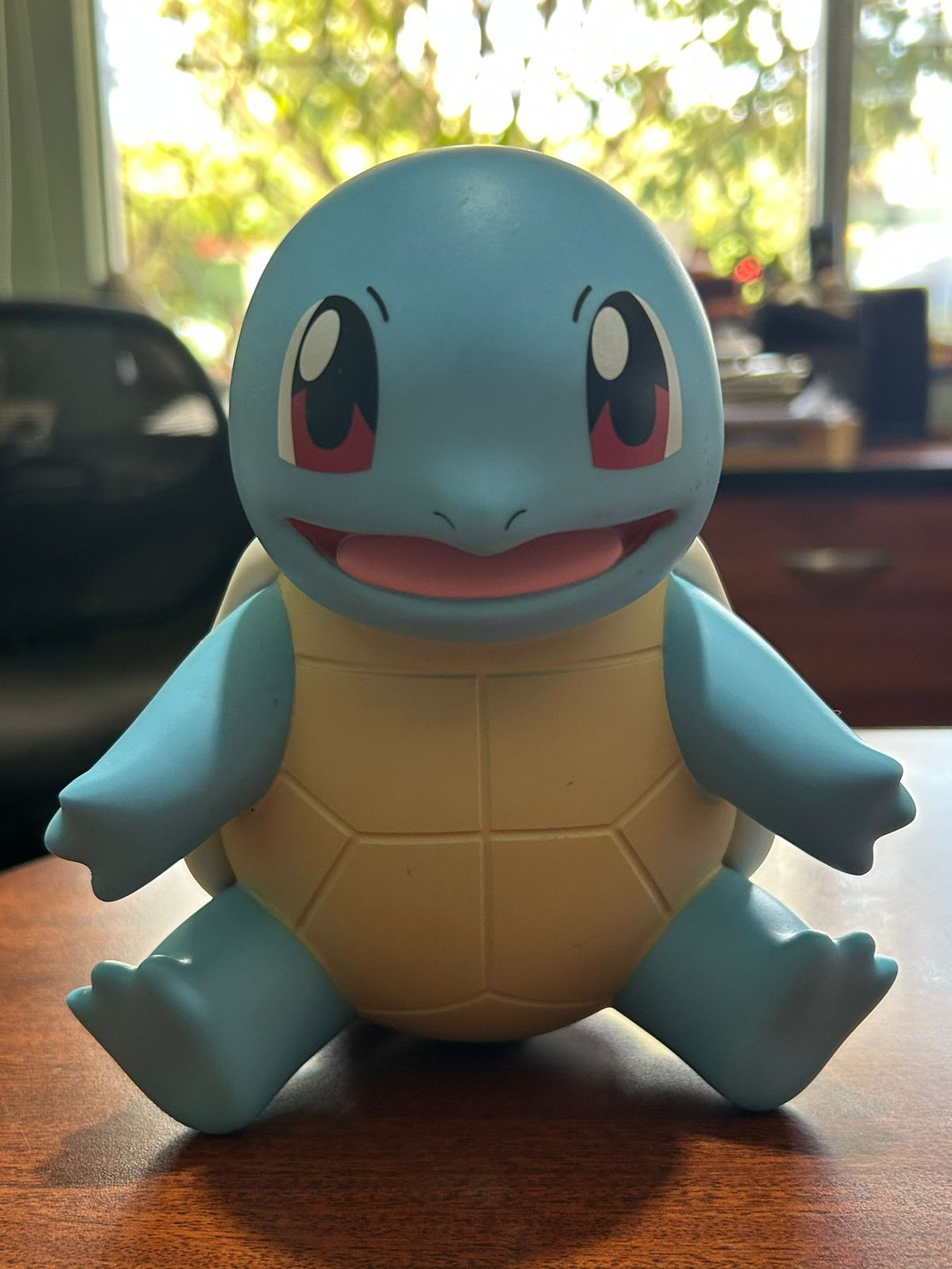Squirtle: (48, 148, 912, 1131)
